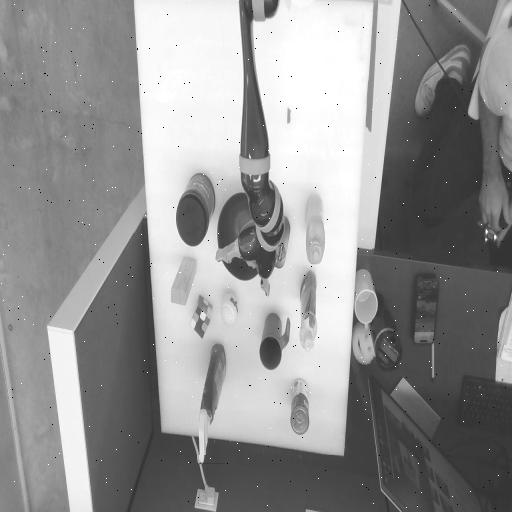bowl: (218, 194, 268, 280)
cleanser: (300, 271, 316, 351)
coffee_can: (176, 174, 214, 245)
jaco: (216, 223, 276, 295)
meat_can: (267, 214, 289, 268)
mug: (259, 313, 289, 369)
mustard_bottle: (305, 220, 324, 239)
rubik: (190, 295, 212, 338)
soup_can: (290, 397, 308, 415)
tennis_ball: (221, 300, 238, 317)
windex: (198, 345, 225, 463)
wooden_block: (170, 268, 195, 293)
workspace: (135, 3, 372, 455)
